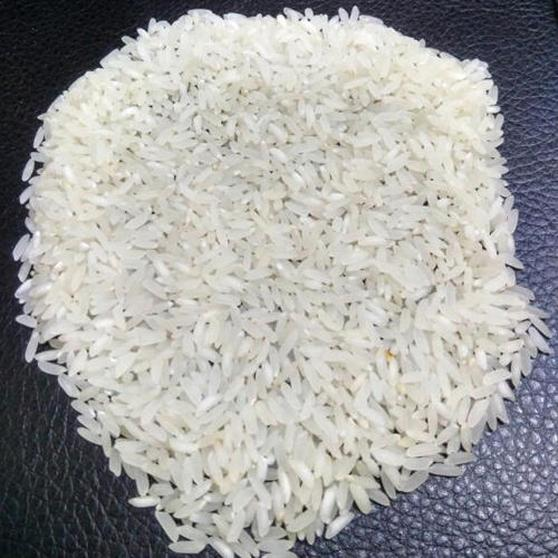rice: (21, 19, 539, 541)
